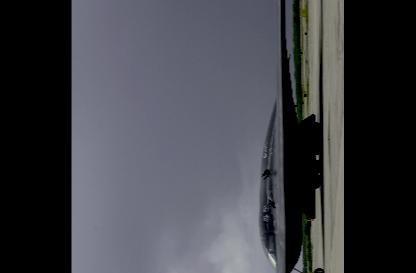B1: (259, 0, 325, 272)
